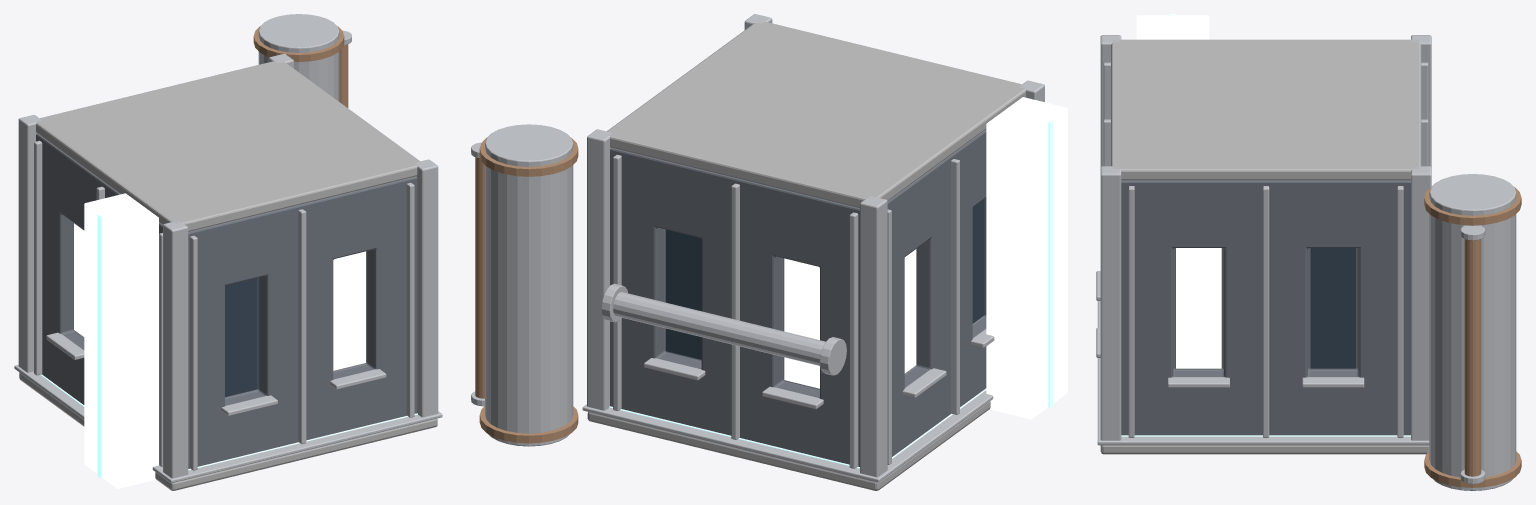
The model's file is svc_3x3.glb.
3 views of the same model, side by side, from view 1: azimuth 30°, elevation 25°; view 2: azimuth 150°, elevation 25°; view 3: azimuth 270°, elevation 25° (orthographic). The views are drawn at different scales.
Parts seen in each view (by area): view 1: ext_wall, int_ceiling, ext_lift, int_columns, ext_frames, ext_panes_lit, ext_svc_tower, ext_panes_dark, int_slab_edge, int_slab, ext_lift_glow, ext_svc_ring2 (+2 smaller); view 2: ext_wall, int_ceiling, ext_svc_tower, ext_lift, int_columns, ext_frames, ext_duct, ext_panes_lit, ext_panes_dark, int_slab_edge, int_slab, ext_svc_pipe (+5 smaller); view 3: ext_wall, int_ceiling, ext_svc_tower, int_columns, ext_frames, ext_panes_lit, ext_panes_dark, ext_svc_pipe, int_slab_edge, int_slab, ext_lift, ext_svc_ring2 (+2 smaller).
Boxes of the visible parts, <box> form: ext_wall: <box>36,133,417,468</box>; int_ceiling: <box>36,60,420,231</box>; ext_lift: <box>84,193,158,488</box>; int_columns: <box>18,53,438,478</box>; ext_frames: <box>34,140,414,470</box>; ext_panes_lit: <box>74,223,365,370</box>; ext_svc_tower: <box>258,14,339,101</box>; ext_panes_dark: <box>225,278,257,397</box>; int_slab_edge: <box>14,365,442,483</box>; int_slab: <box>19,372,437,490</box>; ext_lift_glow: <box>97,214,102,478</box>; ext_svc_ring2: <box>253,26,344,61</box>; ext_wall: <box>610,129,986,466</box>; int_ceiling: <box>607,21,1025,208</box>; ext_svc_tower: <box>485,124,573,446</box>; ext_lift: <box>986,97,1067,419</box>; int_columns: <box>587,14,1044,477</box>; ext_frames: <box>613,154,994,468</box>; ext_duct: <box>613,292,825,365</box>; ext_panes_lit: <box>784,249,916,388</box>; ext_panes_dark: <box>666,199,984,359</box>; int_slab_edge: <box>582,390,993,482</box>; int_slab: <box>587,401,990,490</box>; ext_svc_pipe: <box>475,157,484,398</box>; ext_wall: <box>1121,180,1410,435</box>; int_ceiling: <box>1111,39,1421,180</box>; ext_svc_tower: <box>1429,174,1516,490</box>; int_columns: <box>1100,35,1431,440</box>; ext_frames: <box>1096,62,1428,437</box>; ext_panes_lit: <box>1176,248,1221,368</box>; ext_panes_dark: <box>1310,248,1355,368</box>; ext_svc_pipe: <box>1464,239,1481,476</box>; int_slab_edge: <box>1097,301,1429,445</box>; int_slab: <box>1100,445,1429,454</box>; ext_lift: <box>1136,15,1209,39</box>; ext_svc_ring2: <box>1424,187,1521,225</box>.
Size of the model in its own units: 4.69 by 3 by 4.11.
